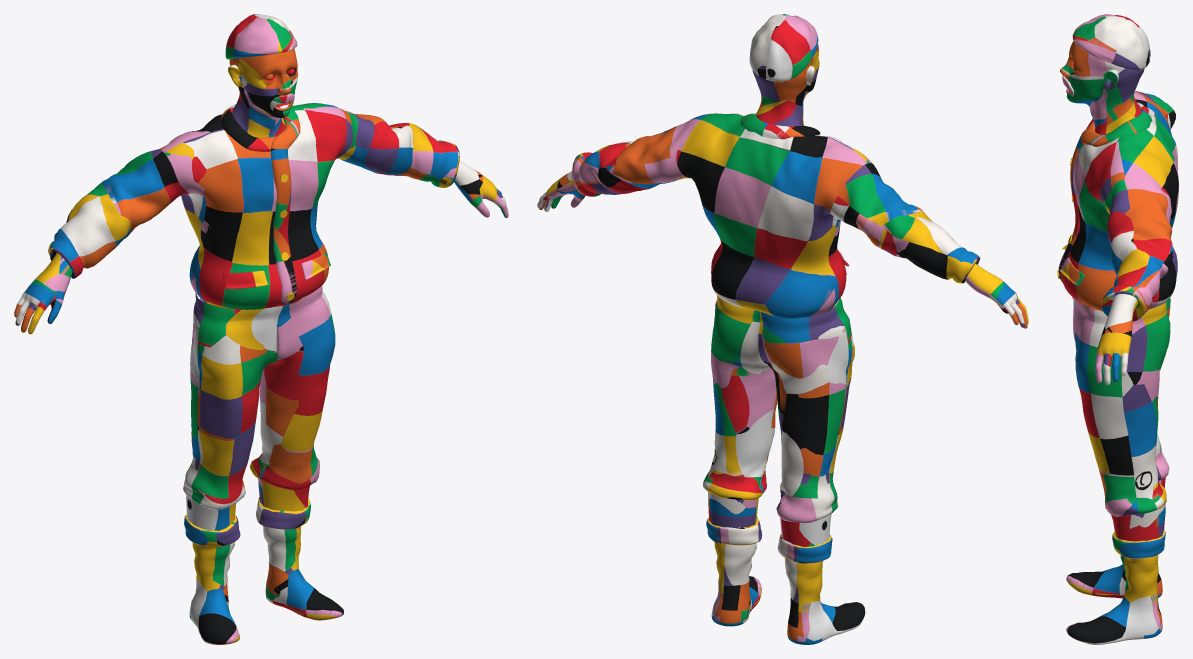
Rendered from Elephan111.glb.
3 renders of one model, left to right at view 1: azimuth 30°, elevation 25°; view 2: azimuth 150°, elevation 25°; view 3: azimuth 270°, elevation 25°, orthographic.
Parts seen in each view (by area): view 1: sweater_low, pants_low, boots_low, body_low, collar_low, hat_low, boots2_low, pockets_low; view 2: sweater_low, pants_low, boots_low, body_low, hat_low, boots2_low, collar_low; view 3: sweater_low, pants_low, body_low, boots_low, hat_low, collar_low, boots2_low, pockets_low.
Boxes of the visible parts, x1,y1,x2,y2 form: sweater_low: (48,103,459,309); pants_low: (183,285,335,509); boots_low: (184,497,343,644); body_low: (14,48,508,334); collar_low: (221,104,300,305); hat_low: (225,14,297,59); boots2_low: (186,478,309,530); pockets_low: (223,252,330,288); sweater_low: (572,113,980,318); pants_low: (703,295,854,523); boots_low: (706,517,865,644); body_low: (537,44,1028,328); hat_low: (749,14,818,81); boots2_low: (708,492,831,546); collar_low: (740,113,820,139); sweater_low: (1061,90,1178,321); pants_low: (1072,296,1170,516); body_low: (1060,41,1144,385); boots_low: (1066,529,1165,644); hat_low: (1072,14,1150,69); collar_low: (1058,102,1152,282); boots2_low: (1111,477,1165,541); pockets_low: (1059,243,1084,285).
Size of the model in its own units: 1.36 by 1.6 by 0.2958.
2 materials, 2 textured.
